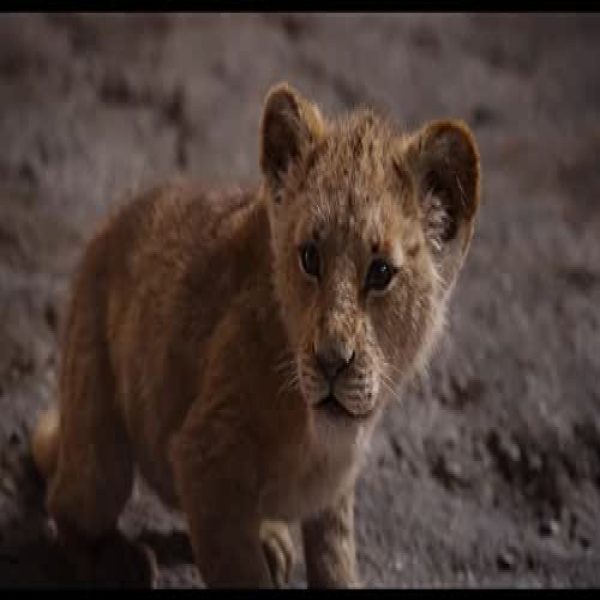Lion: (34, 81, 486, 589)
